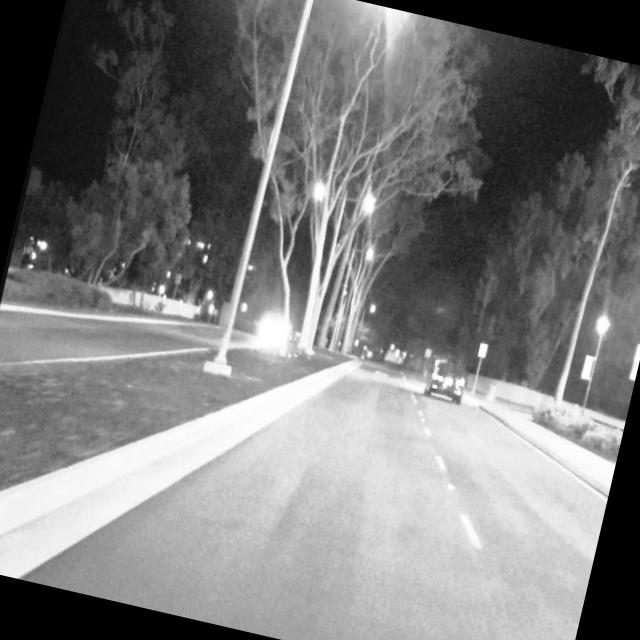Tree: (531, 60, 640, 439), (282, 2, 397, 360)
